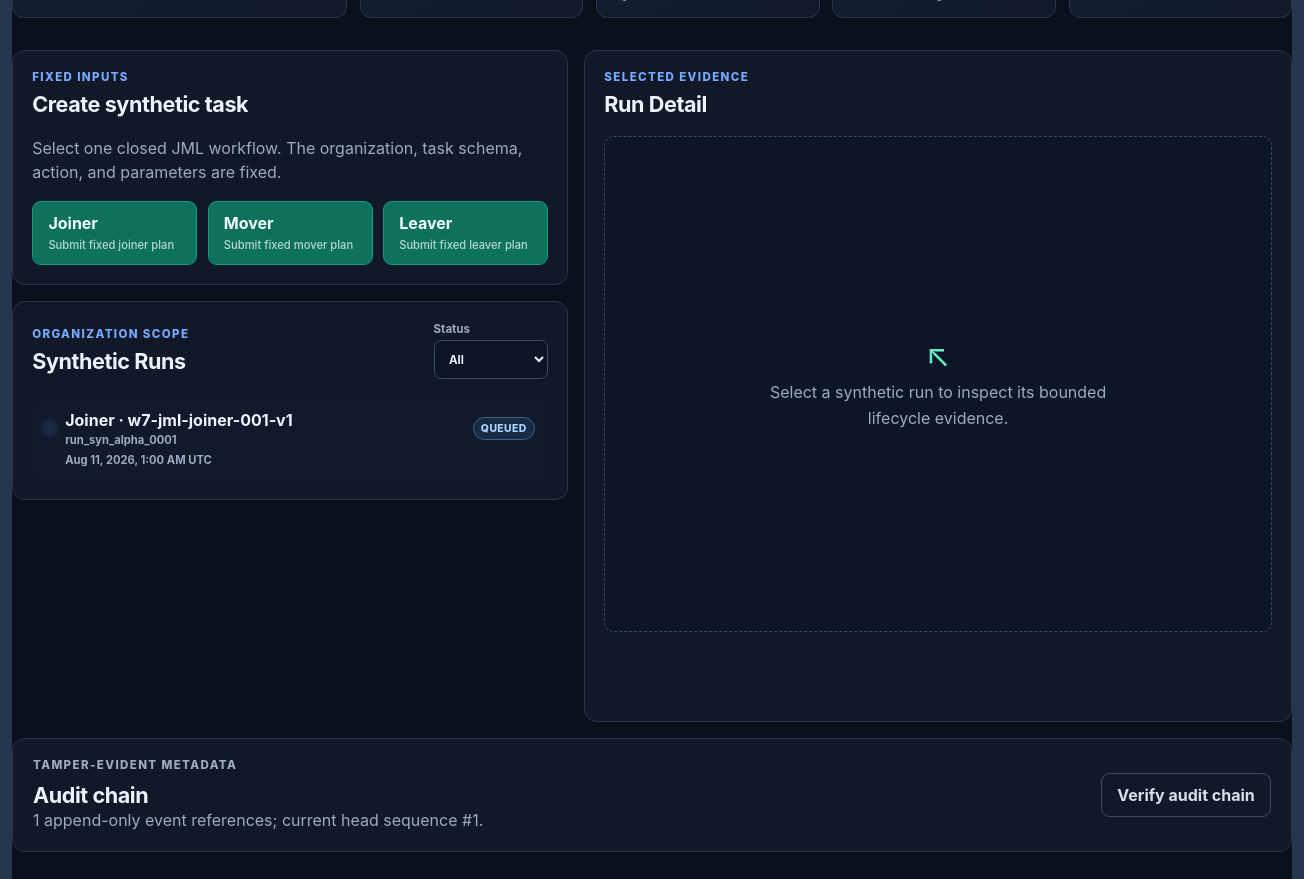
Test: DemoConsole › starts bounded polling, reports stale state, and cleans up on unmount
(page scrolled)
Click the 4th button: click(90, 420) [32,397,548,480]
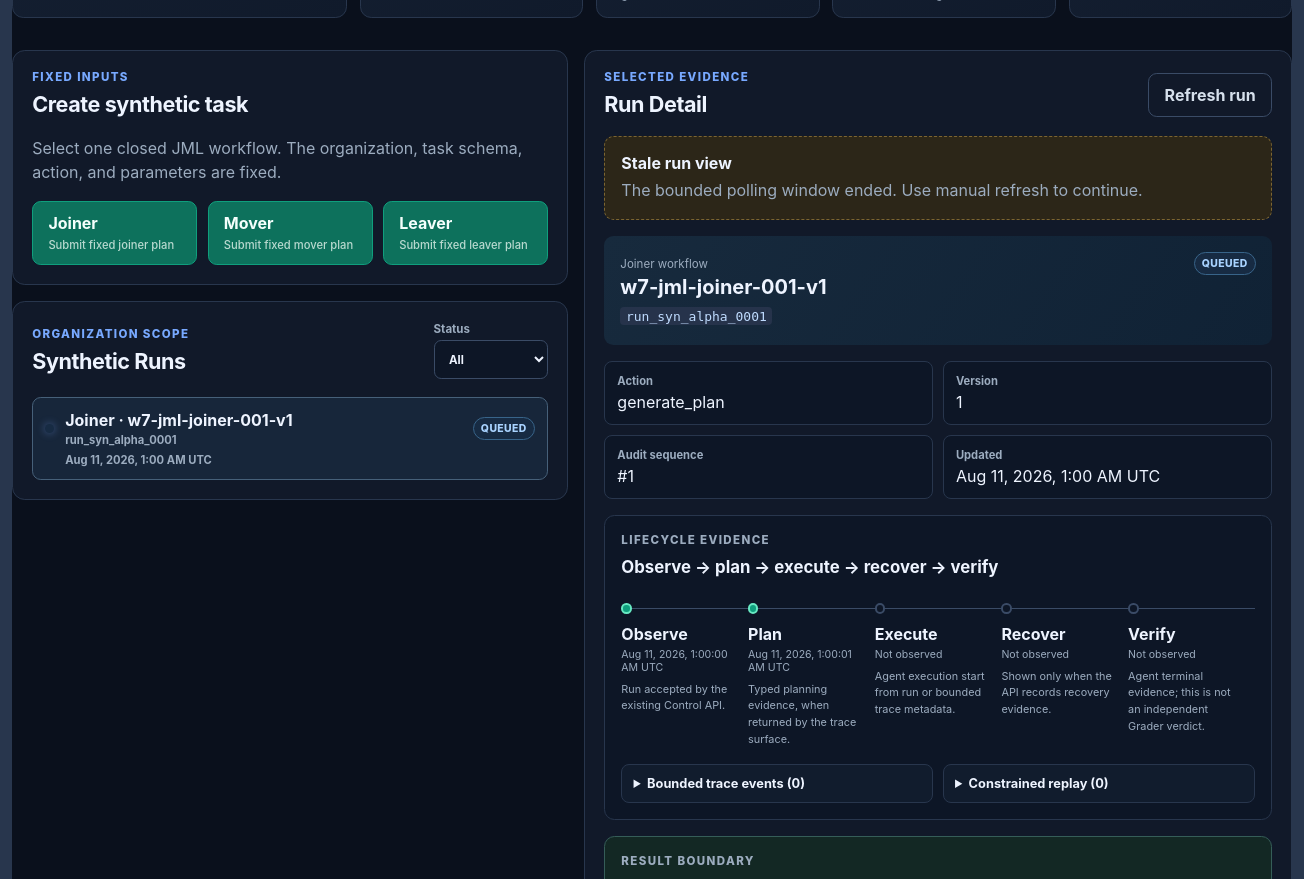
Now the text "Stale run view" is shown, box [621,153,732,173]
